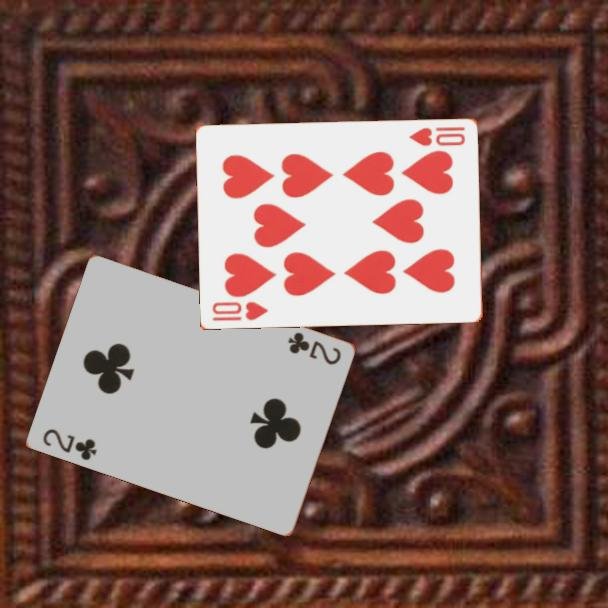c02: (285, 328, 344, 368), (40, 425, 100, 463)
h10: (406, 123, 468, 149), (209, 298, 271, 324)
